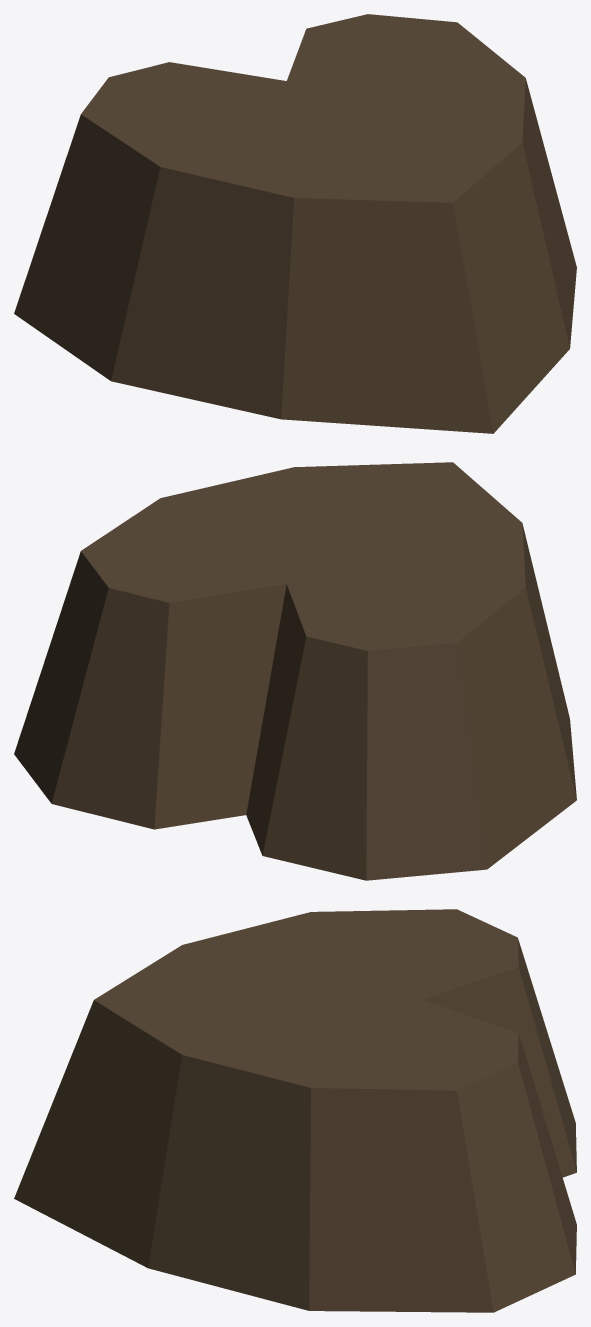
Rendered from SM_Prop_Chocolate_01.fbx.
3 renders of one model, top to bottom at view 1: azimuth 30°, elevation 25°; view 2: azimuth 150°, elevation 25°; view 3: azimuth 270°, elevation 25°, orthographic.
Visible parts, largest first — view 1: SM_Prop_Chocolate_01; view 2: SM_Prop_Chocolate_01; view 3: SM_Prop_Chocolate_01.
Part boxes in pixels (x1,y1,x2,y2): SM_Prop_Chocolate_01: [14, 14, 576, 433]; SM_Prop_Chocolate_01: [14, 462, 576, 880]; SM_Prop_Chocolate_01: [14, 909, 576, 1312].
Size of the model in its own units: 8.32 by 3.39 by 8.69.
Materials: 1 (1 with a texture image).
